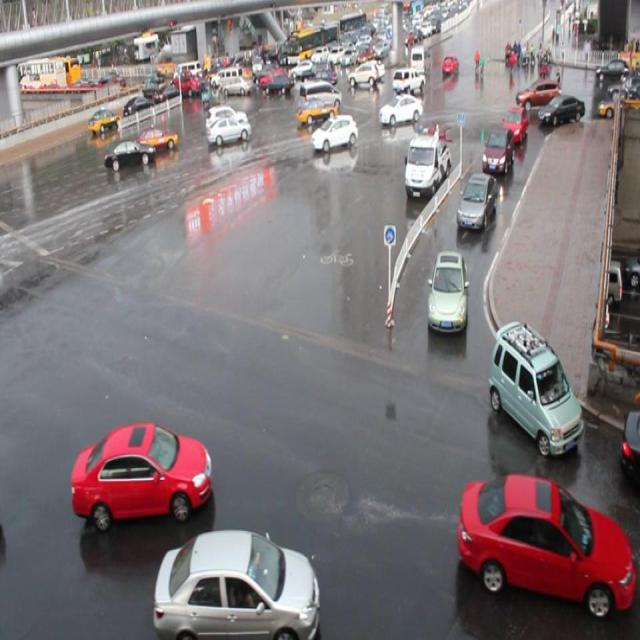bus: (402, 133, 450, 199)
car: (456, 473, 640, 614), (152, 525, 320, 640), (70, 418, 213, 530), (487, 320, 582, 455), (426, 249, 468, 335), (454, 172, 497, 230), (310, 114, 357, 152), (538, 91, 584, 129), (481, 124, 514, 176), (105, 137, 156, 169), (515, 78, 561, 110), (379, 92, 422, 126), (205, 101, 248, 132), (134, 124, 179, 153), (206, 115, 252, 143), (295, 97, 338, 126), (500, 105, 527, 144)
truck: (298, 78, 341, 112)
